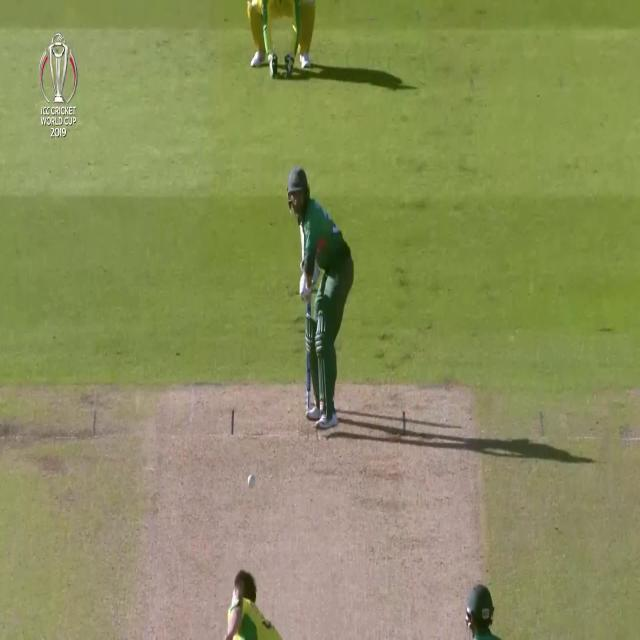ball: (245, 468, 259, 492)
